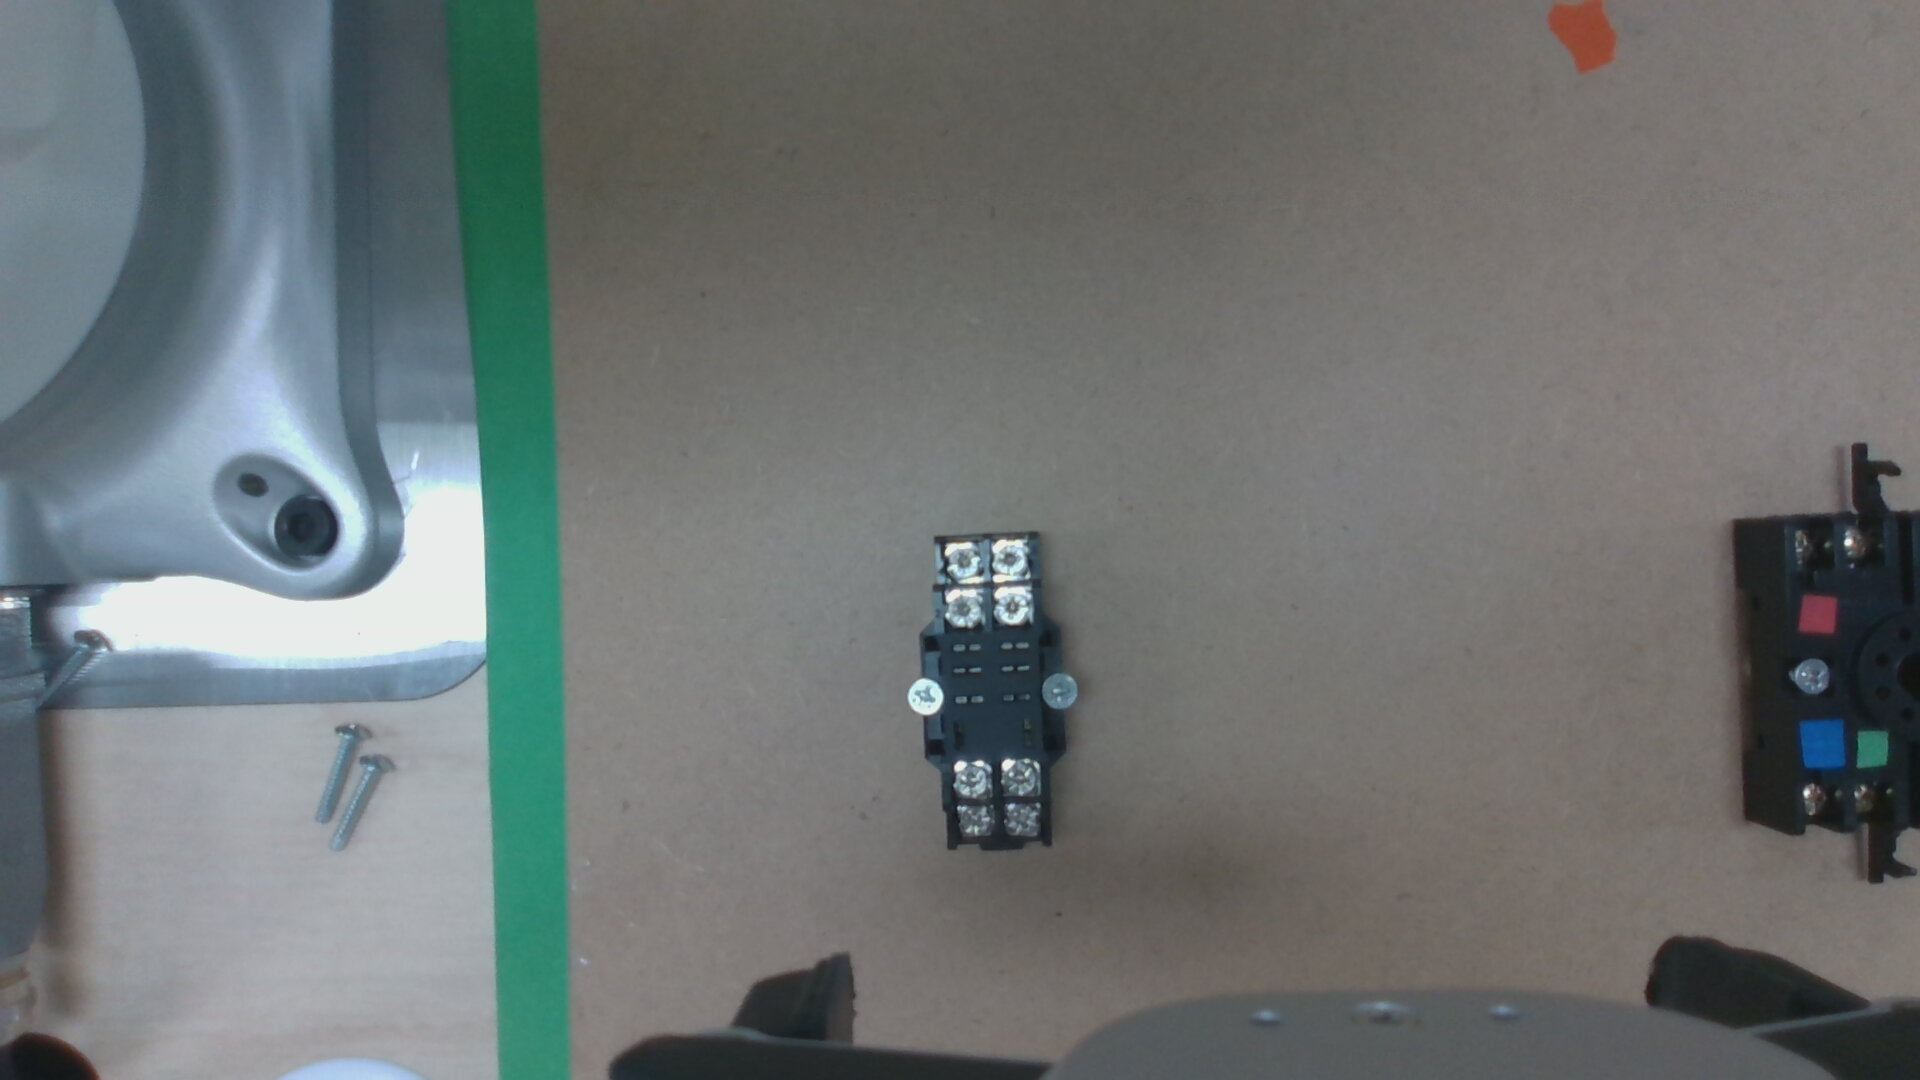relay 3: (992, 543, 1029, 578)
relay 4: (944, 545, 982, 579)
relay 5: (1004, 803, 1040, 833)
relay 6: (953, 804, 994, 837)
relay 7: (1002, 760, 1038, 793)
relay 8: (951, 762, 992, 795)
